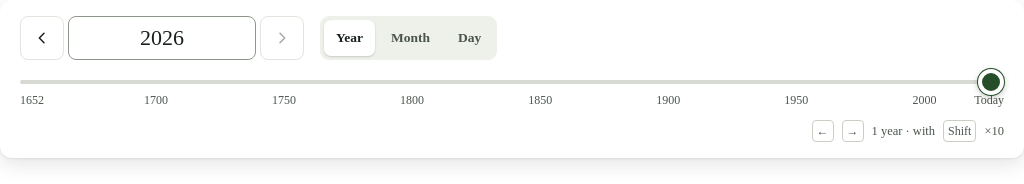
Scenario: shows the date at Month and Day precision
This screenshot has width=1024, height=184.
Click the radio button labelled "Month" at x=410, y=38, box x1=379 y1=20 x2=442 y2=56
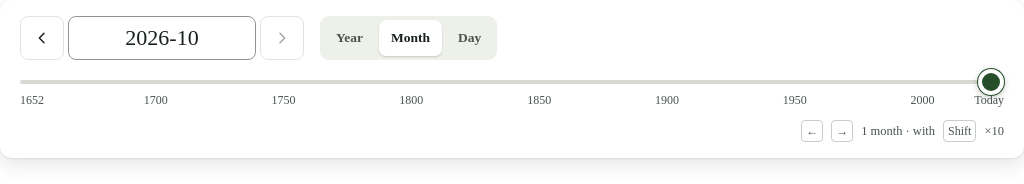
Expected: the field named "Date shown" holds "2026-10", x1=81 y1=16 x2=243 y2=60
Click the radio button labelled "Day" at x=470, y=38, box x1=446 y1=20 x2=493 y2=56
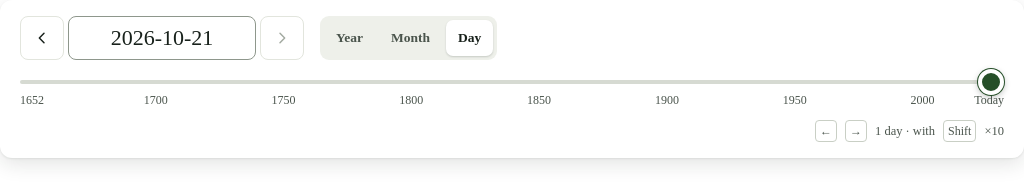
Expected: the radio button labelled "Day" is checked, x1=446 y1=20 x2=493 y2=56
Expected: the field named "Date shown" holds "2026-10-21", x1=81 y1=16 x2=243 y2=60
